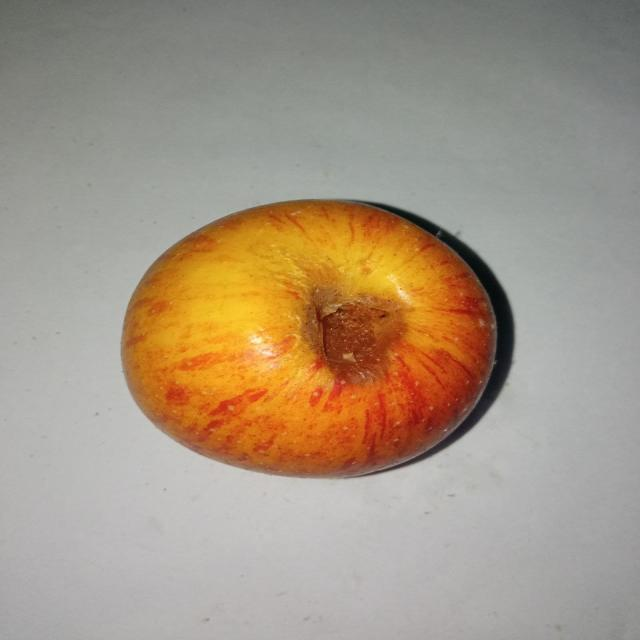rotten_apple: (118, 199, 497, 477)
